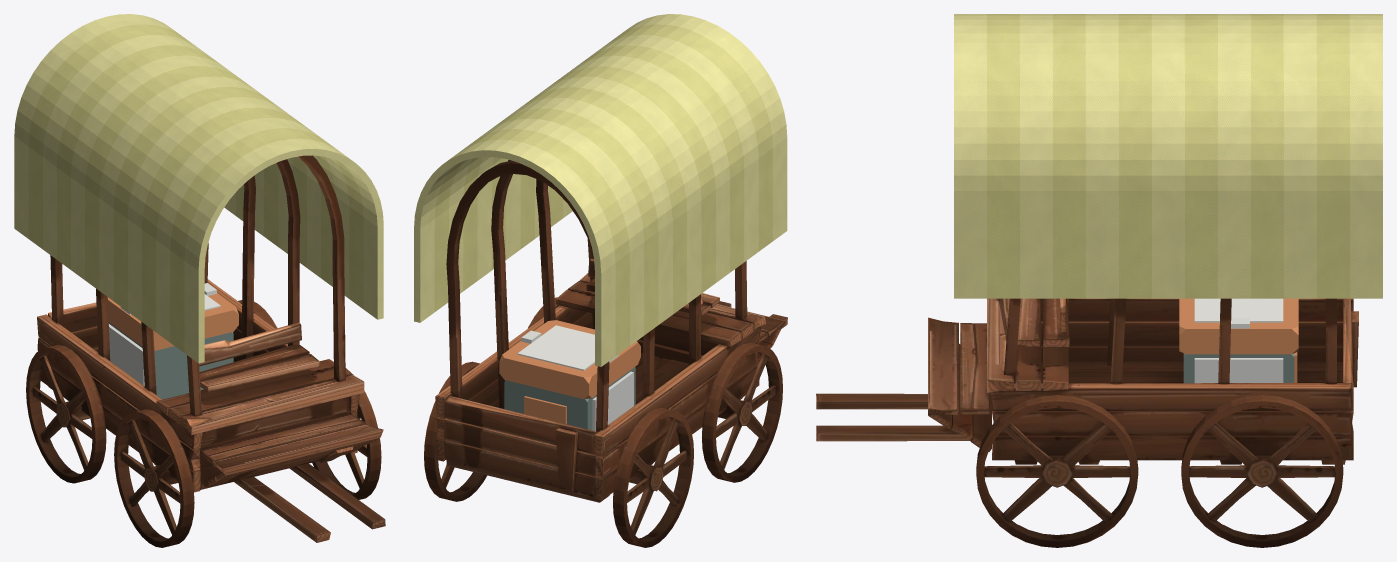
Rendered from fable_t06.glb.
The picture shows the model from 3 angles, left to right: view 1: azimuth 30°, elevation 25°; view 2: azimuth 150°, elevation 25°; view 3: azimuth 270°, elevation 25°; orthographic projection. The views are drawn at different scales.
Parts seen in each view (by area): view 1: canopy_shell, slot_anchor_frame, slot_front_wheels, box_lid, box_body, box_side_panels; view 2: canopy_shell, slot_anchor_frame, slot_front_wheels, box_lid, box_lid_top, box_body, box_side_panels, box_front_panel; view 3: canopy_shell, slot_anchor_frame, slot_front_wheels, box_lid, box_side_panels, box_lid_top, box_body.
Part boxes in pixels (left/top/right/bottom): canopy_shell: left=14, top=14, right=383, bottom=363; slot_anchor_frame: left=26, top=155, right=385, bottom=542; slot_front_wheels: left=114, top=368, right=381, bottom=547; box_lid: left=107, top=293, right=238, bottom=350; box_body: left=108, top=322, right=233, bottom=399; box_side_panels: left=109, top=324, right=144, bottom=385; canopy_shell: left=414, top=14, right=787, bottom=366; slot_anchor_frame: left=424, top=160, right=787, bottom=547; slot_front_wheels: left=528, top=297, right=782, bottom=482; box_lid: left=499, top=320, right=640, bottom=398; box_lid_top: left=517, top=325, right=594, bottom=370; box_body: left=504, top=367, right=635, bottom=430; box_side_panels: left=592, top=371, right=633, bottom=431; box_front_panel: left=524, top=396, right=566, bottom=424; canopy_shell: left=954, top=14, right=1382, bottom=298; slot_anchor_frame: left=816, top=298, right=1358, bottom=547; slot_front_wheels: left=976, top=395, right=1138, bottom=547; box_lid: left=1179, top=298, right=1298, bottom=354; box_side_panels: left=1194, top=358, right=1283, bottom=383; box_lid_top: left=1194, top=298, right=1283, bottom=322; box_body: left=1183, top=353, right=1294, bottom=383.
Bounding box in the file's own units: 0.9611 × 1.86 × 2.05.
8 materials, 2 textured.
